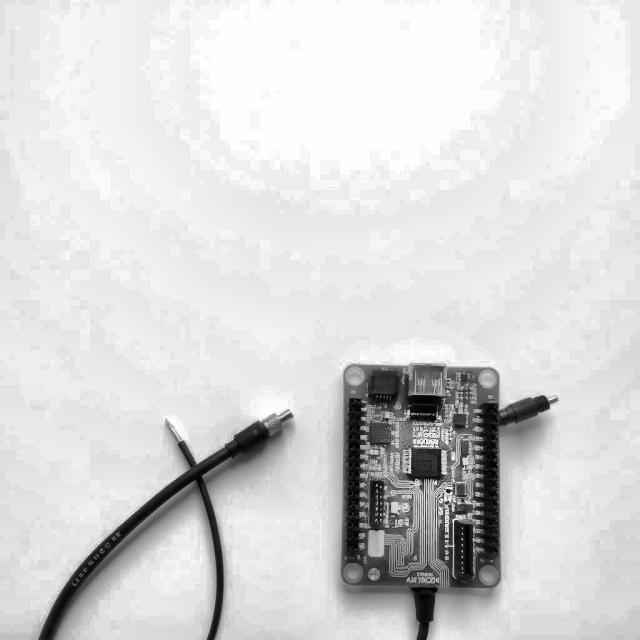Cable: (30, 393, 291, 640), (505, 384, 555, 430), (412, 599, 436, 640)
PCB: (340, 361, 505, 597)
